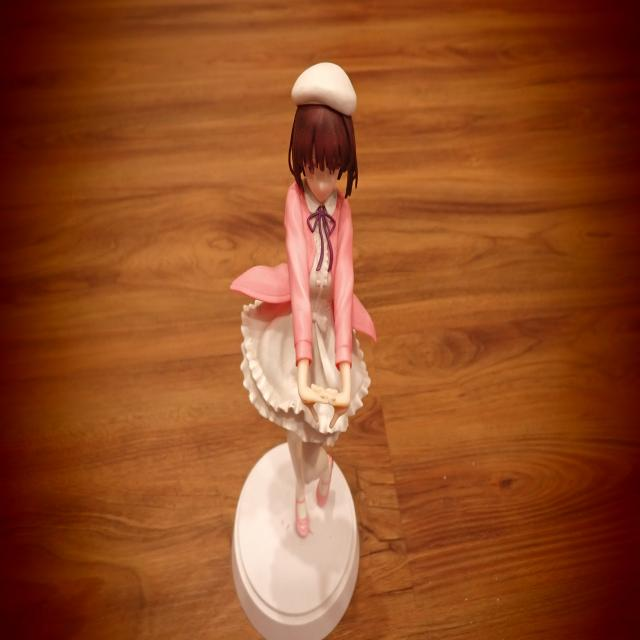My-pink-anime-figure: (232, 63, 375, 537)
